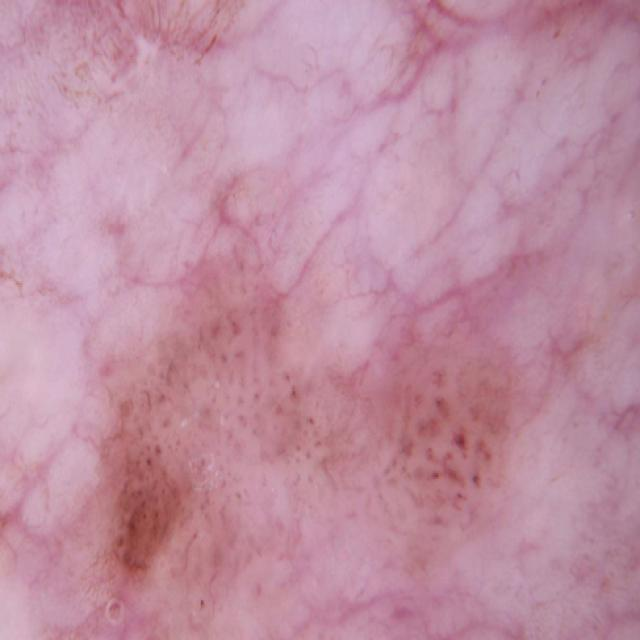Carcinoma: (59, 196, 640, 633)
